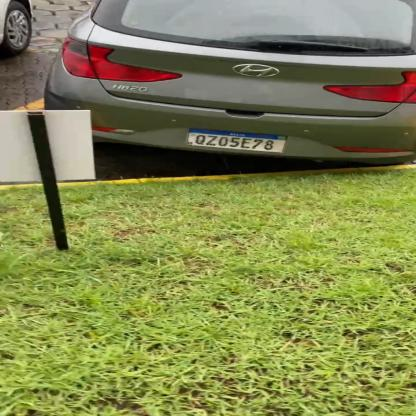Plate: (186, 123, 290, 157)
